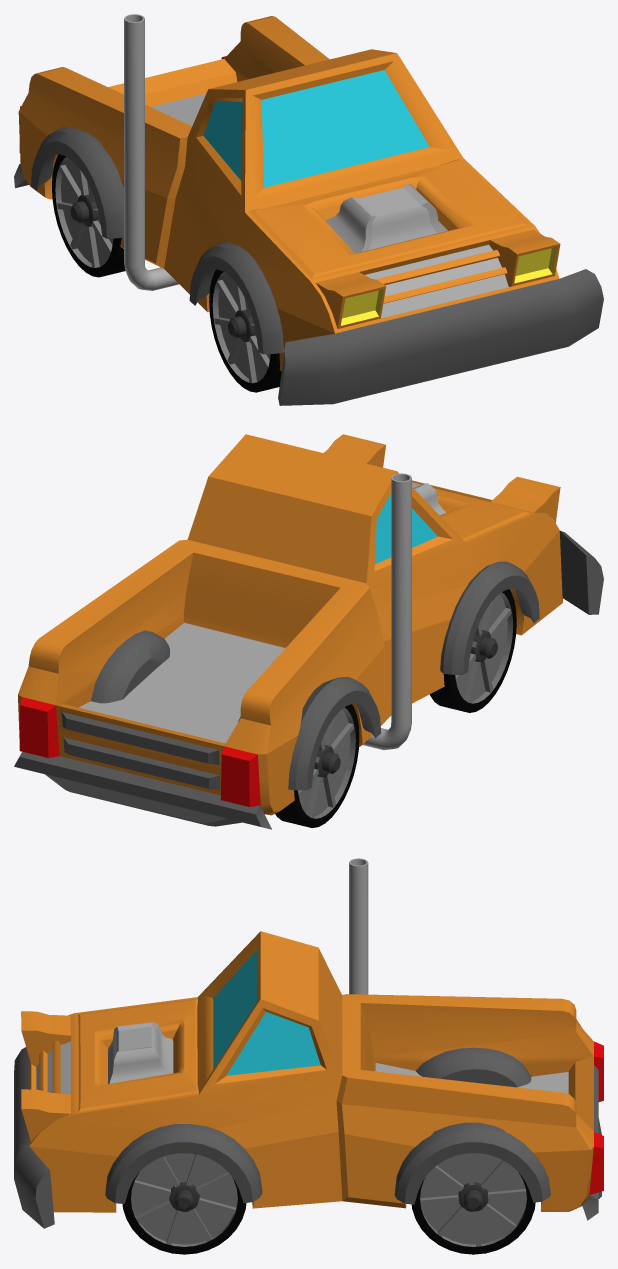
File: car 5.fbx
The picture shows the model from 3 angles, top to bottom: view 1: azimuth 30°, elevation 25°; view 2: azimuth 150°, elevation 25°; view 3: azimuth 270°, elevation 25°; orthographic projection. The views are drawn at different scales.
Parts seen in each view (by area): view 1: Car 5, Cylinder.026, Cylinder.023, Cylinder.022; view 2: Car 5, Cylinder.026, Cylinder.022, Cylinder.023; view 3: Car 5, Cylinder.026, Cylinder.025, Cylinder.024.
Boxes of the visible parts, bbox=[...] form: Car 5: bbox=[14, 14, 603, 405]; Cylinder.026: bbox=[31, 127, 284, 354]; Cylinder.023: bbox=[52, 154, 125, 277]; Cylinder.022: bbox=[209, 269, 281, 392]; Car 5: bbox=[14, 434, 603, 829]; Cylinder.026: bbox=[288, 561, 539, 790]; Cylinder.022: bbox=[430, 589, 516, 712]; Cylinder.023: bbox=[275, 704, 359, 827]; Car 5: bbox=[14, 858, 603, 1228]; Cylinder.026: bbox=[105, 1122, 550, 1204]; Cylinder.025: bbox=[411, 1153, 535, 1254]; Cylinder.024: bbox=[122, 1153, 246, 1254].
Bounding box in the file's own units: 286 × 259 × 497.
